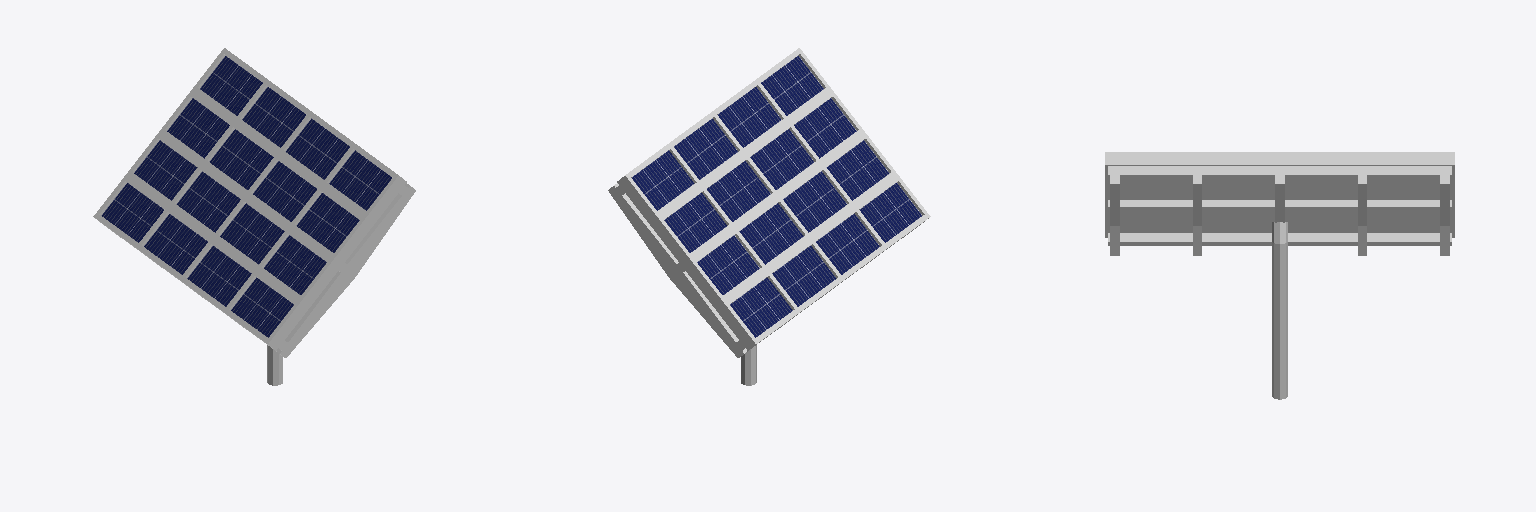
3 views of the same model, side by side, from view 1: azimuth 30°, elevation 25°; view 2: azimuth 150°, elevation 25°; view 3: azimuth 270°, elevation 25° (orthographic).
Visible parts, largest first — view 1: painel-solar_Cylinder; view 2: painel-solar_Cylinder; view 3: painel-solar_Cylinder.
Part boxes in pixels (left/top/right/bottom): painel-solar_Cylinder: left=93, top=48, right=415, bottom=385; painel-solar_Cylinder: left=608, top=48, right=930, bottom=385; painel-solar_Cylinder: left=1105, top=152, right=1454, bottom=399.
Bounding box in the file's own units: 12.68 × 21.03 × 25.4.
1 materials, 1 textured.